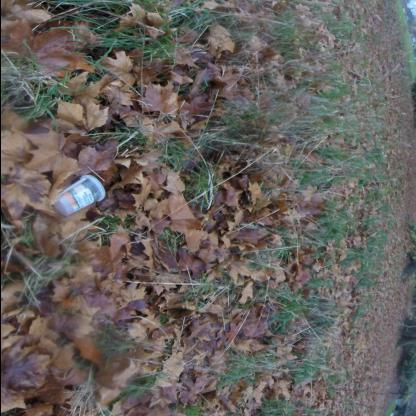plastik: (53, 176, 106, 218)
